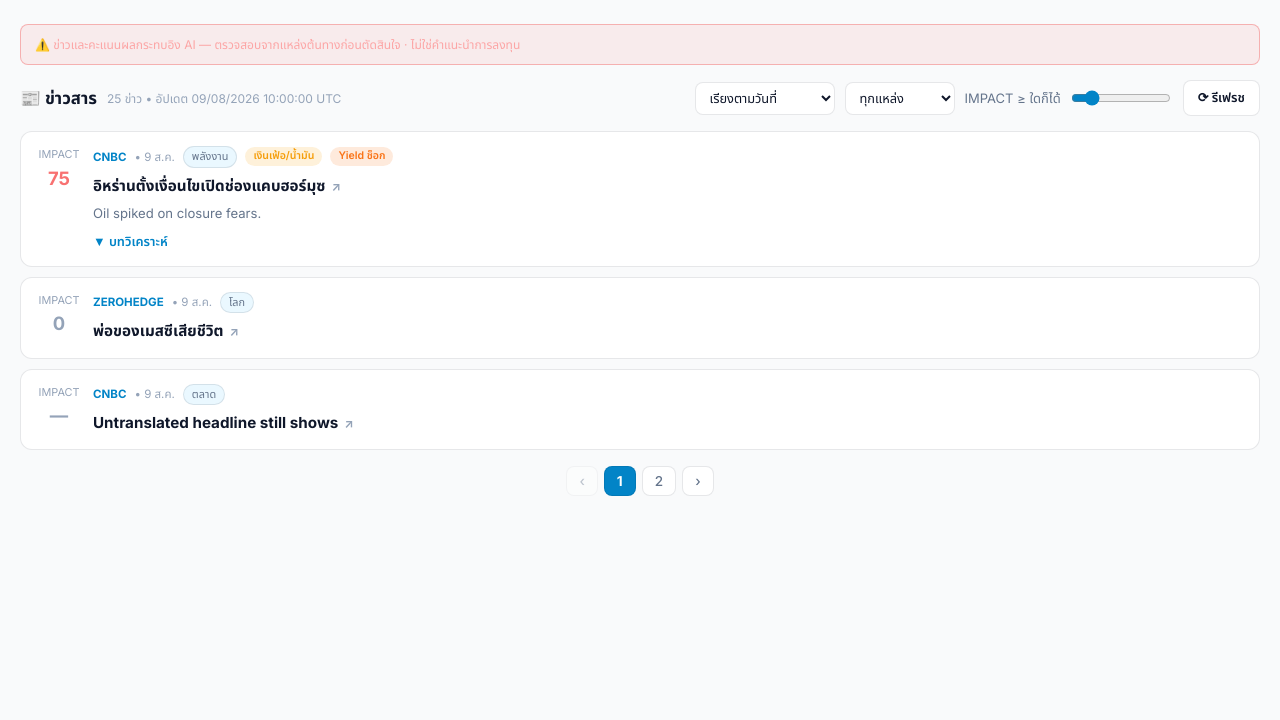
Test: NewsDashboard › expands the analysis panel on click
This screenshot has width=1280, height=720.
What coordinates should you click on to do the following:
click the button "▼ บทวิเคราะห์"
I would click on:
 (130, 242)
Its box is [93,232,168,252].
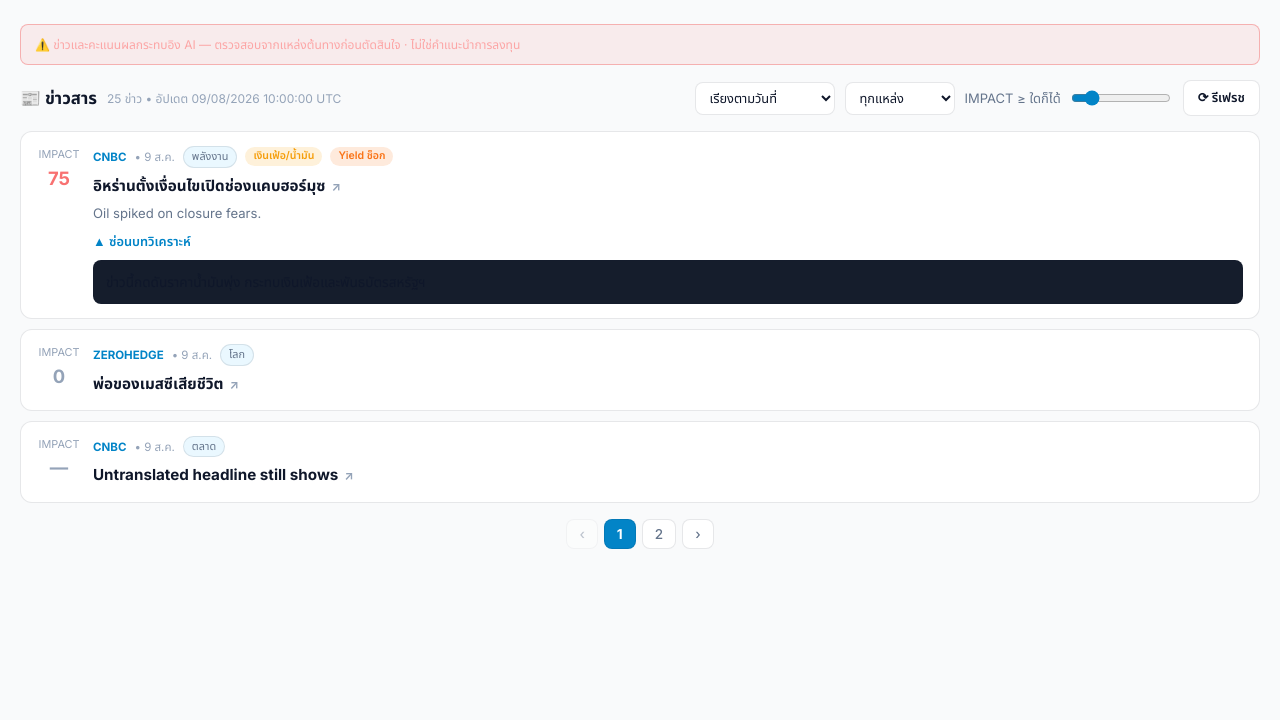
Expected: the text "ข่าวนี้กดดันราคาน้ำมันพุ่ง กระทบเงินเฟ้อและพันธบัตรสหรัฐฯ" is shown, [93,260,1243,304]
